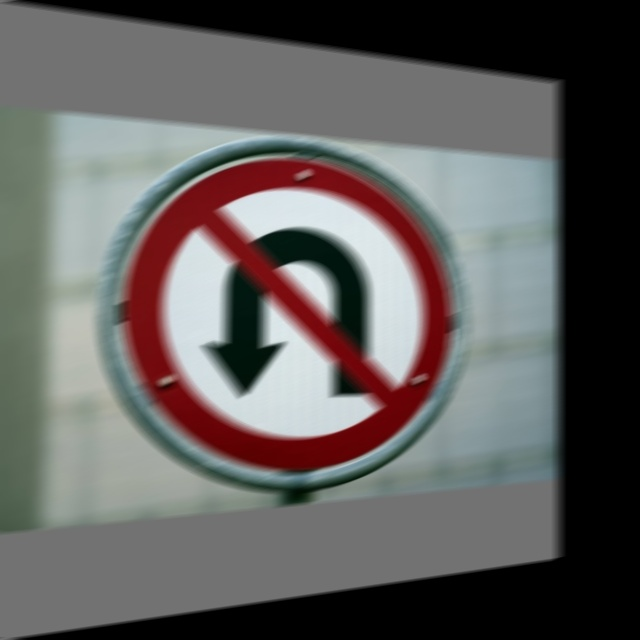U_Turn_Prohibited: (99, 114, 456, 503)
